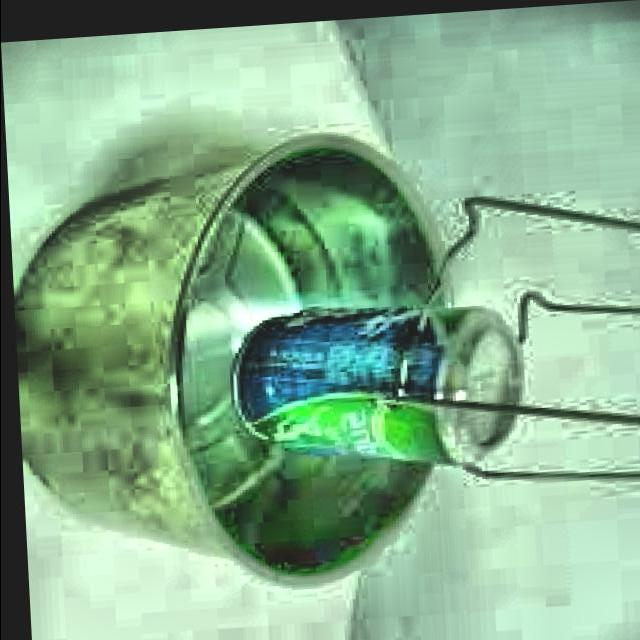Aluminum Can: (216, 276, 534, 481)
